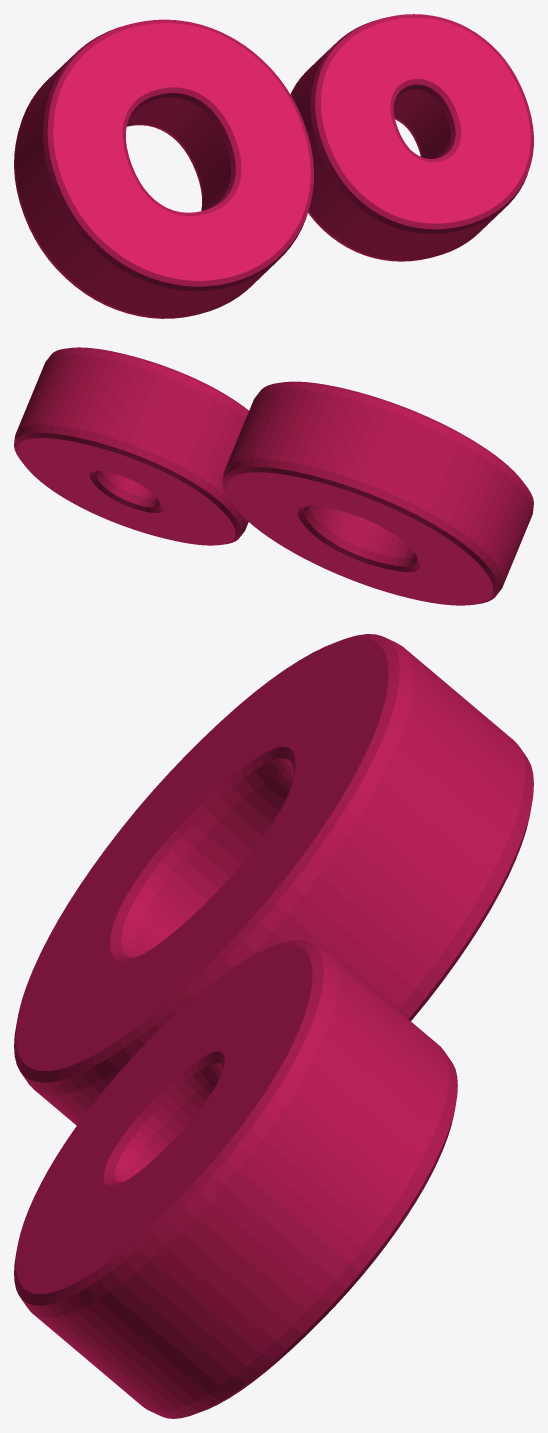
The picture shows the model from 3 angles, top to bottom: view 1: azimuth 30°, elevation 25°; view 2: azimuth 150°, elevation 25°; view 3: azimuth 270°, elevation 25°; orthographic projection. The views are drawn at different scales.
Parts seen in each view (by area): view 1: letter; view 2: letter; view 3: letter.
Boxes of the visible parts, left/top/right/bottom form: letter: left=14, top=14, right=533, bottom=318; letter: left=14, top=347, right=533, bottom=605; letter: left=14, top=634, right=533, bottom=1418.
Bounding box in the file's own units: 1.95 × 0.9899 × 0.9547.
